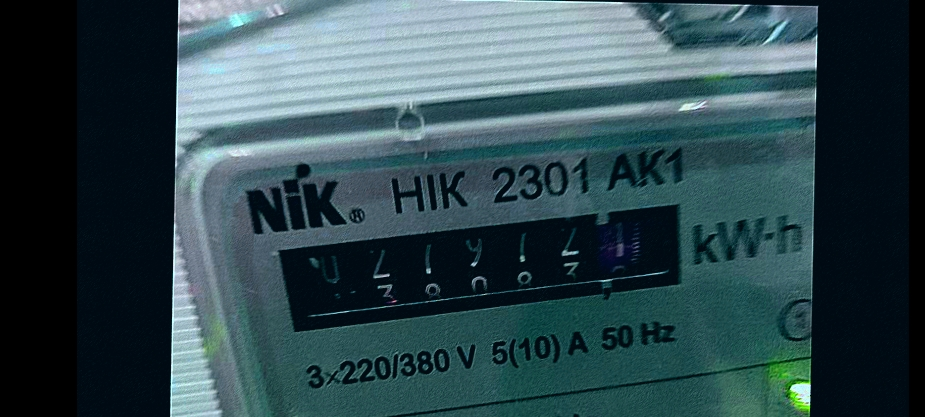0: (315, 249, 344, 285)
1: (609, 217, 632, 261)
2: (364, 241, 394, 280), (555, 220, 584, 258)
7: (508, 224, 534, 266), (414, 239, 438, 276)
9: (462, 232, 488, 268)
screen: (260, 187, 715, 349)
